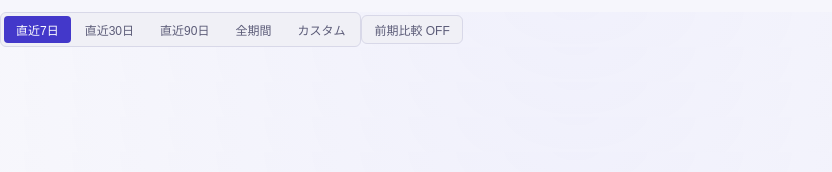
PeriodSelector › カスタム日付範囲 › カスタムボタンクリック後に日付入力が表示される
Click the button "カスタム".
click(321, 30)  # box x1=285 y1=16 x2=357 y2=43
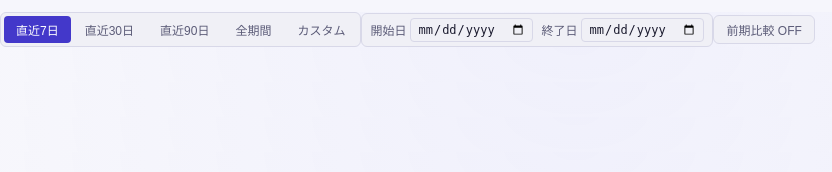
Expected: the date field labelled "開始日" is shown, x1=410 y1=18 x2=534 y2=42
Expected: the date field labelled "終了日" is shown, x1=582 y1=18 x2=704 y2=42
